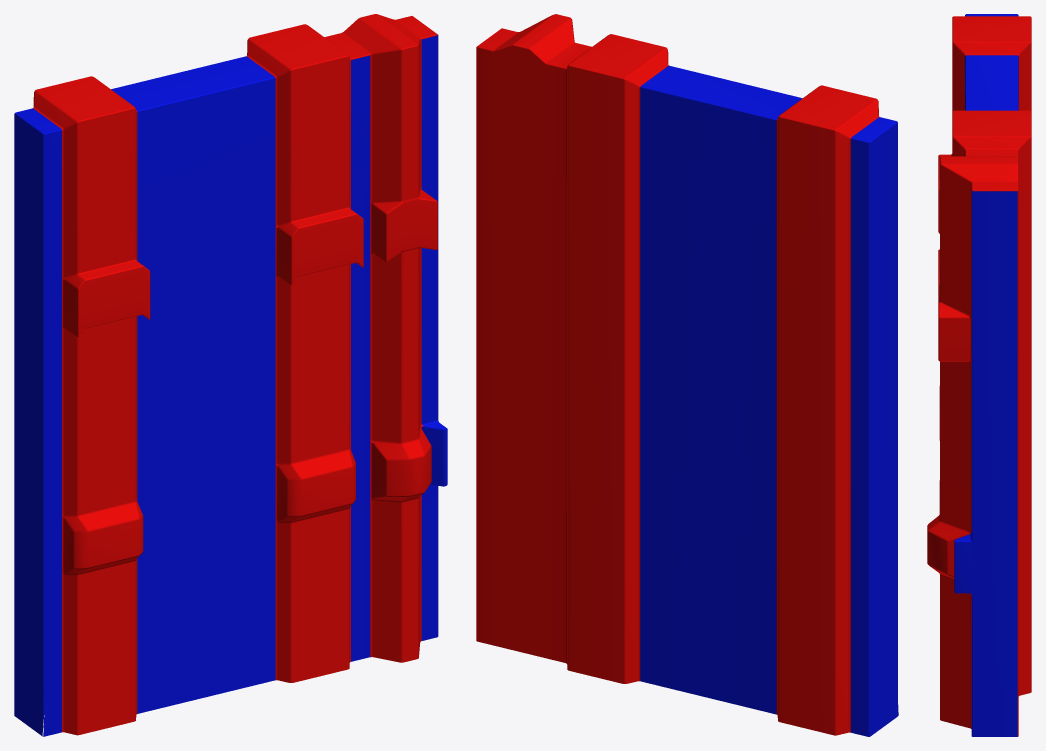
File: Door_Main.fbx
The picture shows the model from 3 angles, left to right: view 1: azimuth 30°, elevation 25°; view 2: azimuth 150°, elevation 25°; view 3: azimuth 270°, elevation 25°; orthographic projection. The views are drawn at different scales.
Parts seen in each view (by area): view 1: Door_Main; view 2: Door_Main; view 3: Door_Main.
Boxes of the visible parts, left/top/right/bottom form: Door_Main: left=14, top=14, right=447, bottom=736; Door_Main: left=476, top=14, right=898, bottom=736; Door_Main: left=927, top=14, right=1031, bottom=736.
Size of the model in its own units: 414 by 608 by 103.
